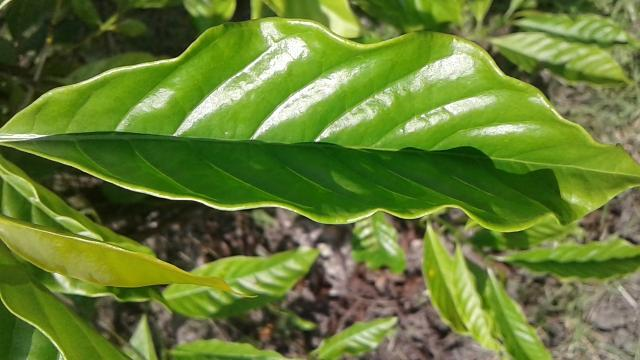healthy: (3, 19, 640, 230)
